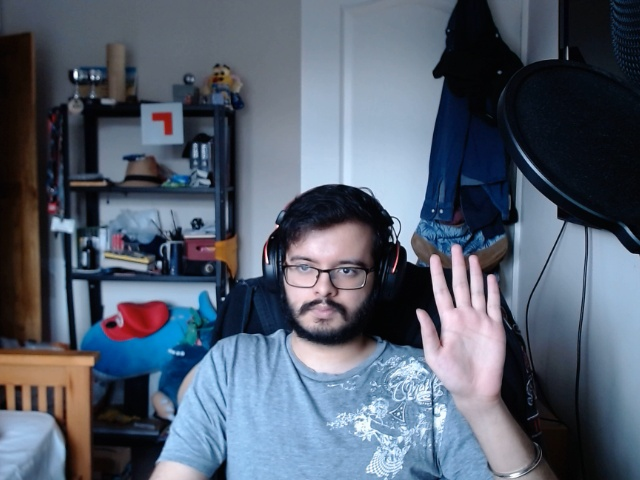Hello: (409, 234, 514, 401)
